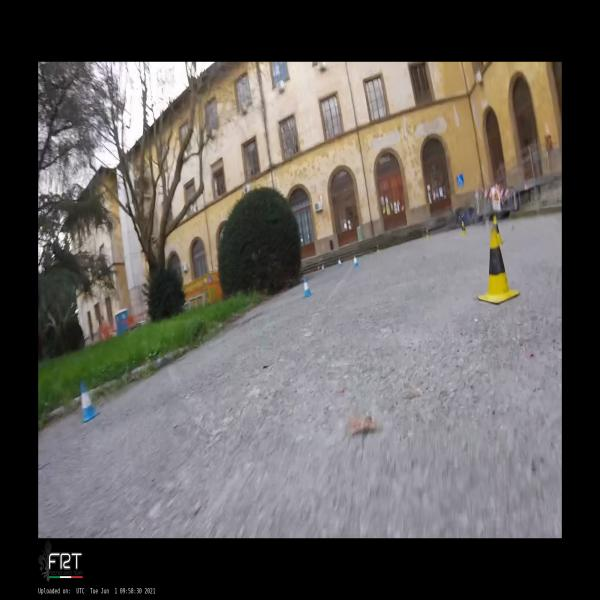blue_cone: (81, 380, 101, 423), (302, 278, 314, 298), (353, 256, 358, 268), (338, 259, 342, 267)
yellow_cone: (478, 228, 520, 305), (494, 216, 503, 245), (462, 221, 466, 236), (426, 230, 430, 239), (376, 245, 380, 251)
